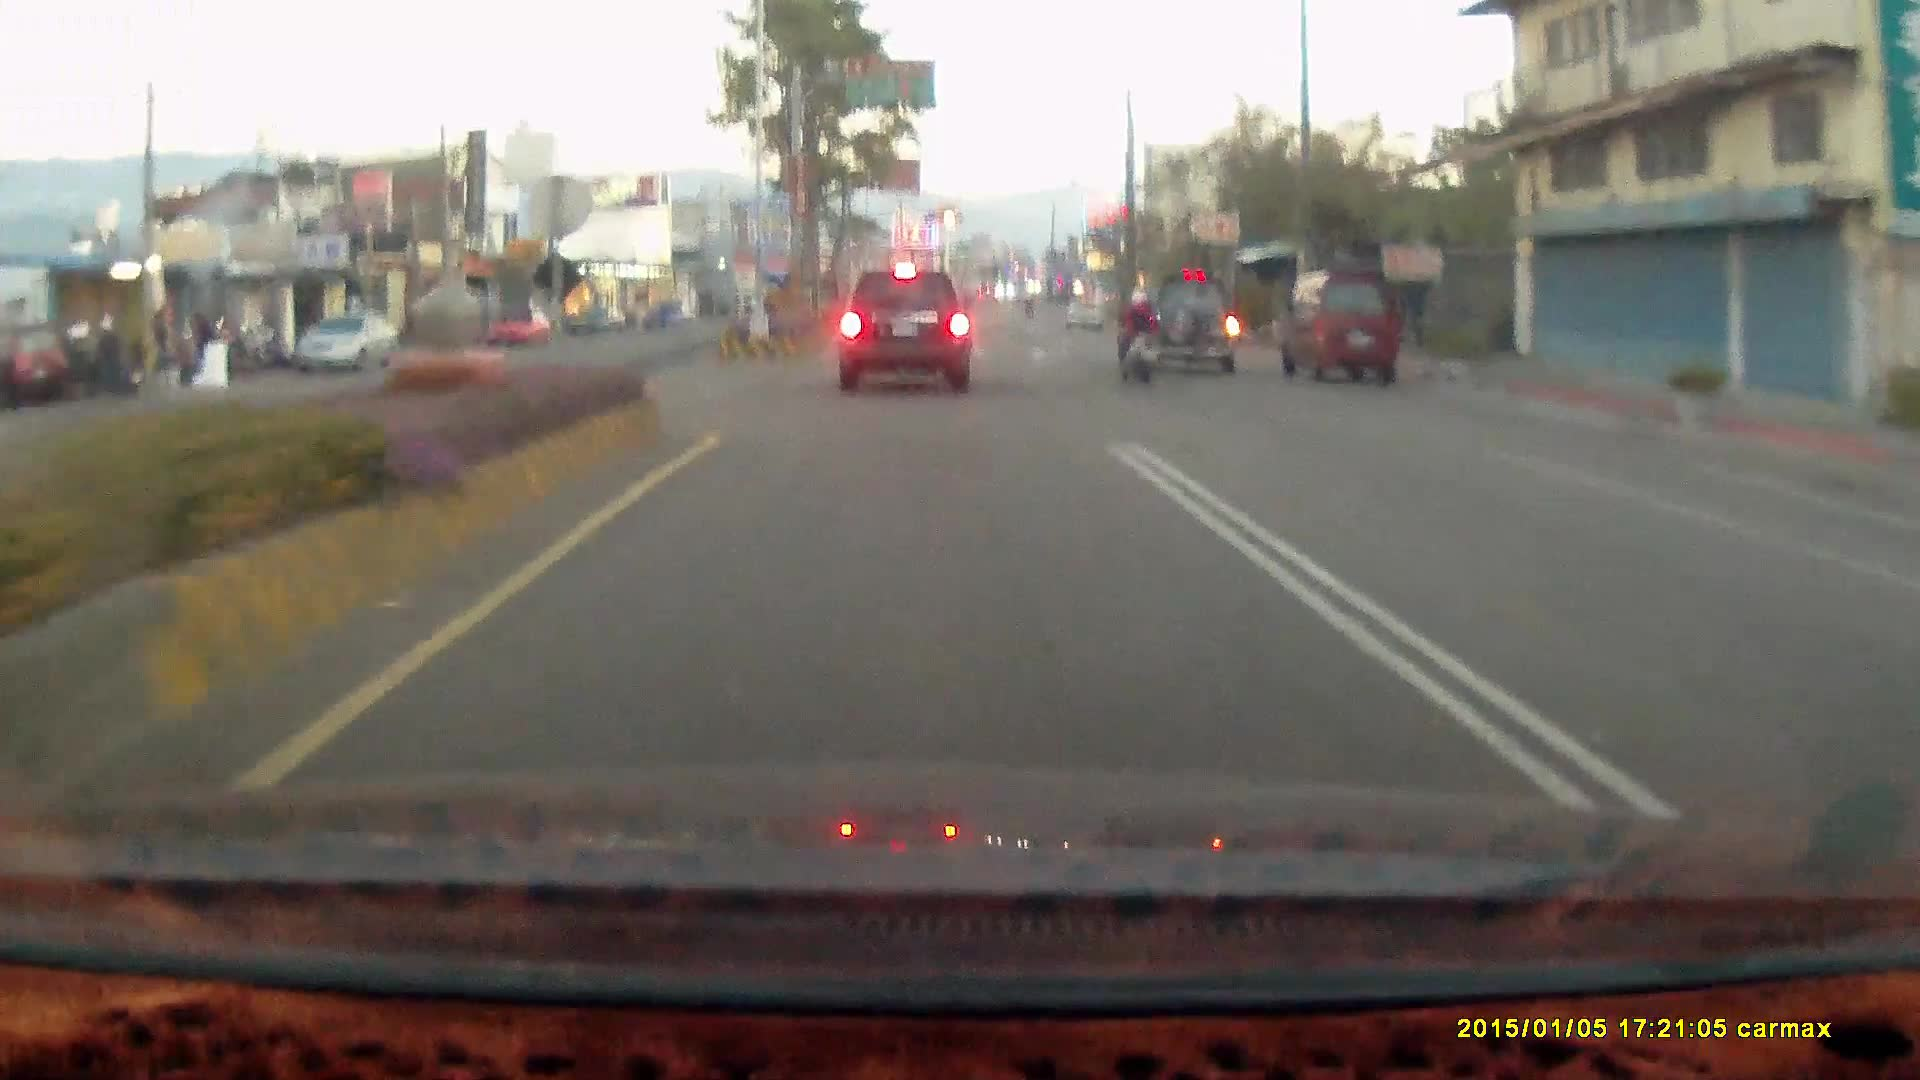pedestrian: (188, 308, 218, 375)
rider: (1114, 285, 1160, 384)
vehicle: (839, 268, 968, 387), (1275, 269, 1398, 385), (1285, 270, 1403, 388), (1142, 274, 1250, 378), (1144, 272, 1238, 374), (1896, 493, 1920, 836), (295, 314, 402, 377), (293, 312, 399, 374), (1883, 528, 1920, 690), (484, 306, 552, 346), (1065, 299, 1103, 330)
